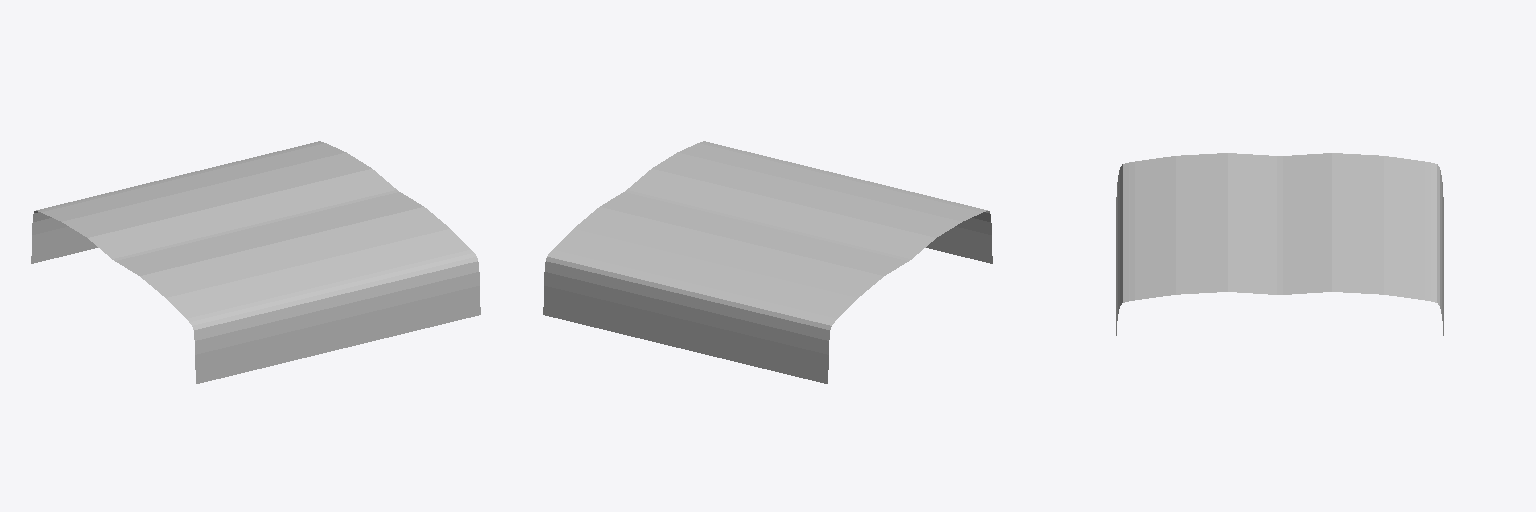
File: road_textured.obj
3 renders of one model, left to right at view 1: azimuth 30°, elevation 25°; view 2: azimuth 150°, elevation 25°; view 3: azimuth 270°, elevation 25°, orthographic.
Visible parts, largest first — view 1: p1a_Plane.024; view 2: p1a_Plane.024; view 3: p1a_Plane.024.
Boxes of the visible parts, x1=… form: p1a_Plane.024: x1=31, y1=141, x2=480, y2=383; p1a_Plane.024: x1=543, y1=141, x2=992, y2=383; p1a_Plane.024: x1=1116, y1=153, x2=1443, y2=335.
Bounding box in the file's own units: 1 × 0.2253 × 1.